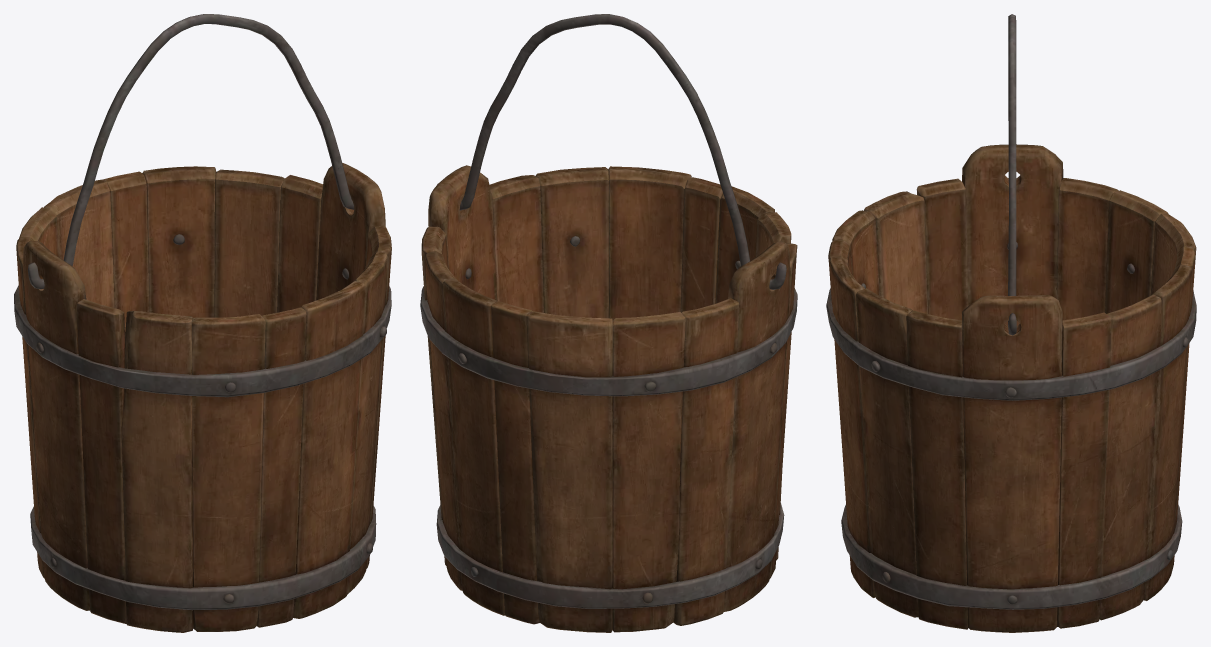
Rendered from bucket.glb.
3 renders of one model, left to right at view 1: azimuth 30°, elevation 25°; view 2: azimuth 150°, elevation 25°; view 3: azimuth 270°, elevation 25°, orthographic.
Visible parts, largest first — view 1: wooden_bucket_01; view 2: wooden_bucket_01; view 3: wooden_bucket_01.
Boxes of the visible parts, x1=… form: wooden_bucket_01: x1=14, y1=14, x2=391, y2=632; wooden_bucket_01: x1=420, y1=14, x2=797, y2=632; wooden_bucket_01: x1=826, y1=14, x2=1196, y2=632.
Bounding box in the file's own units: 0.367 × 0.5499 × 0.3422.
Materials: 1 (1 with a texture image).
